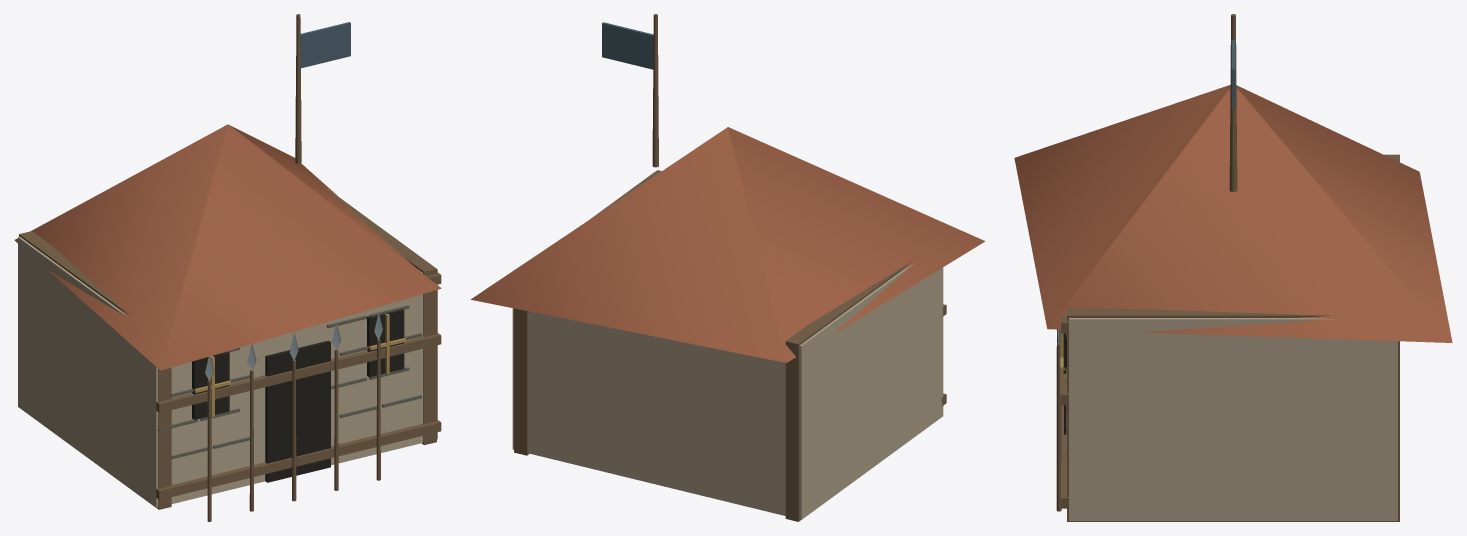
The model's file is b-siege-castilian.glb.
3 views of the same model, side by side, from view 1: azimuth 30°, elevation 25°; view 2: azimuth 150°, elevation 25°; view 3: azimuth 270°, elevation 25° (orthographic). The views are drawn at different scales.
Visible parts, largest first — view 1: Structure, weaponRack3, weaponRack0, weaponRack4, weaponRack2, weaponRack1; view 2: Structure; view 3: Structure, weaponRack4.
Boxes of the visible parts, box(x1,y1,x2,y2) form: Structure: box(14, 14, 441, 509); weaponRack3: box(332, 322, 340, 490); weaponRack0: box(205, 356, 213, 521); weaponRack4: box(374, 312, 383, 480); weaponRack2: box(289, 332, 298, 501); weaponRack1: box(247, 344, 256, 511); Structure: box(471, 14, 985, 521); Structure: box(1014, 14, 1452, 521); weaponRack4: box(1056, 329, 1061, 511).
Size of the model in its own units: 4.53 by 5.6 by 4.53.
